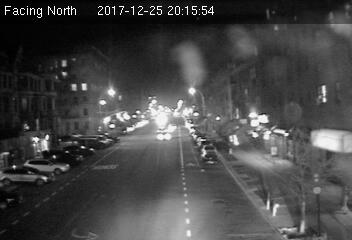car: (154, 127, 172, 142), (201, 150, 218, 164)
